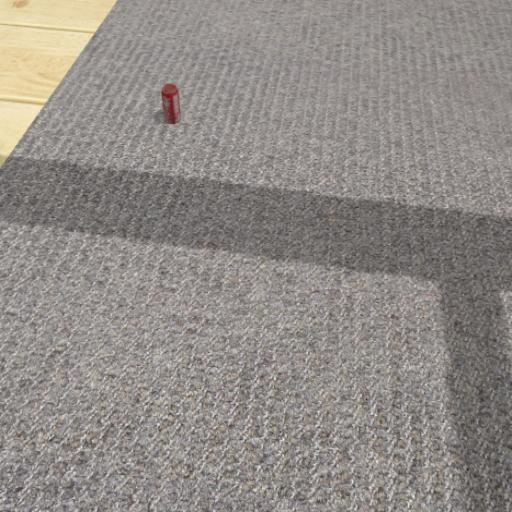COCA: (143, 46, 202, 168)
